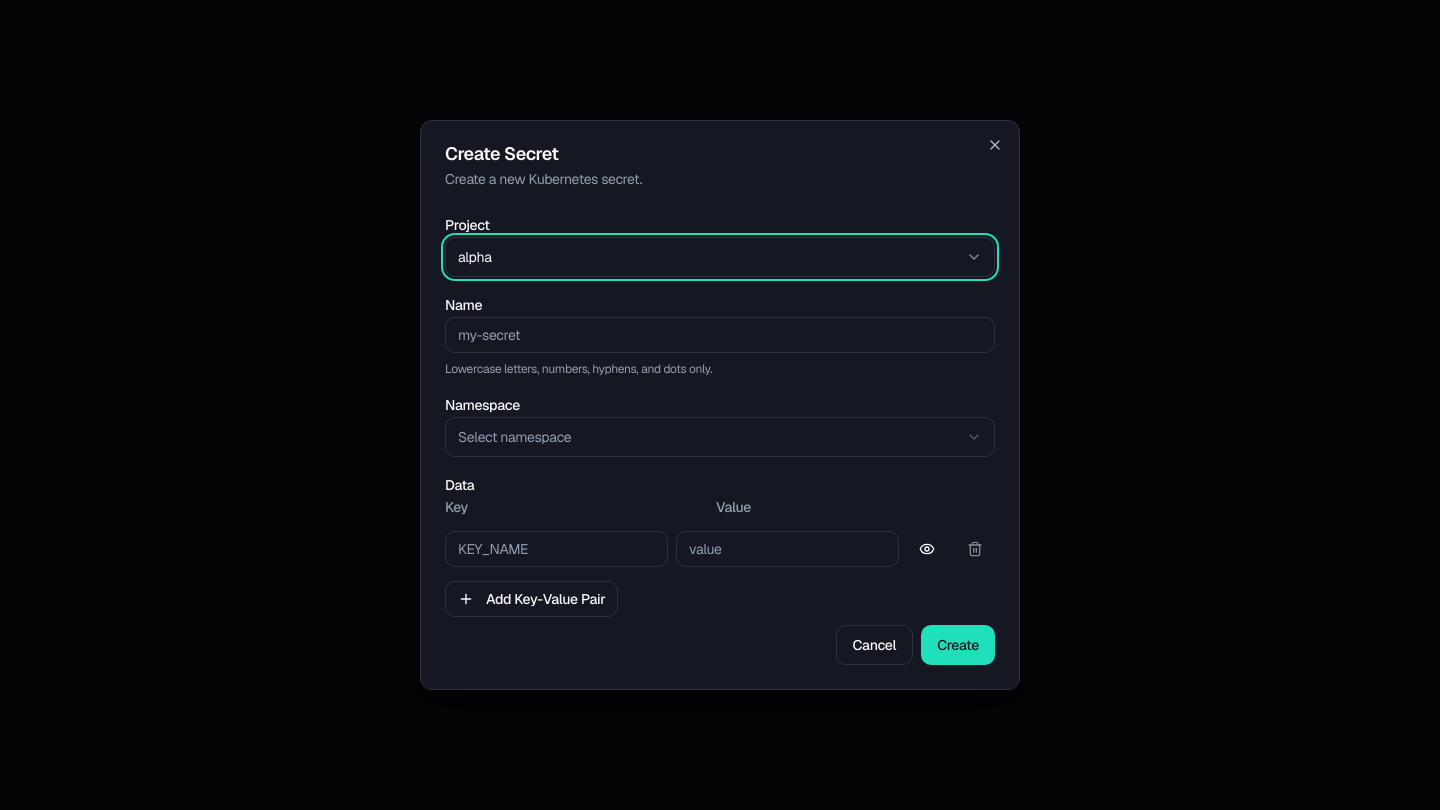
Test case: CreateSecretDialog › shows validation errors when fields are empty
This screenshot has width=1440, height=810.
Click the button "Create" at (958, 645), box [921,625,995,665]
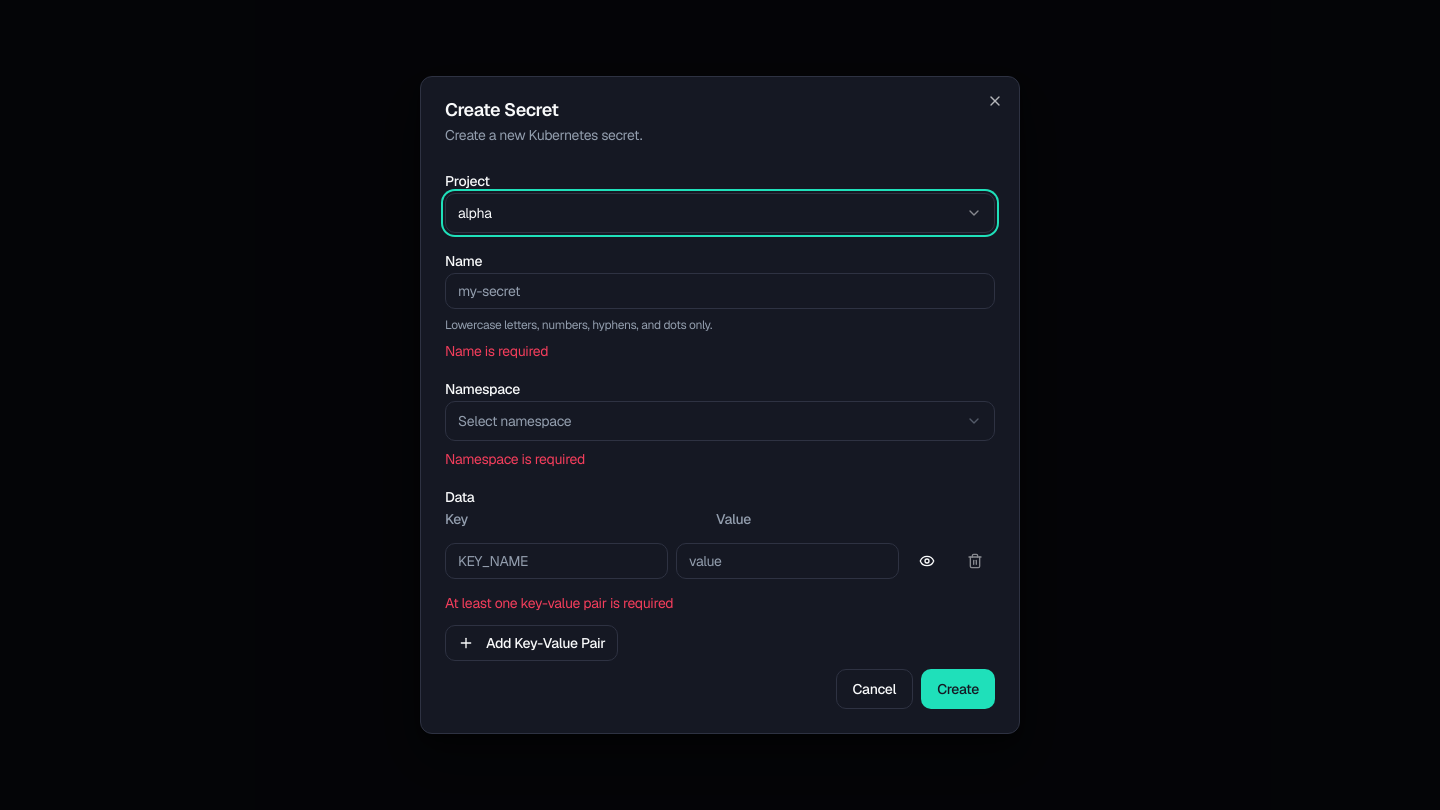
Expected: the text "Name is required" is shown, [445,342,548,360]
Expected: the text "Namespace is required" is shown, [445,450,585,468]
